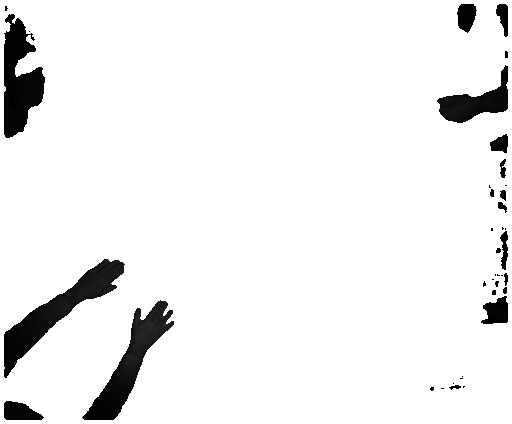fist: (432, 88, 475, 127)
hand: (71, 256, 127, 301), (131, 296, 175, 353)
